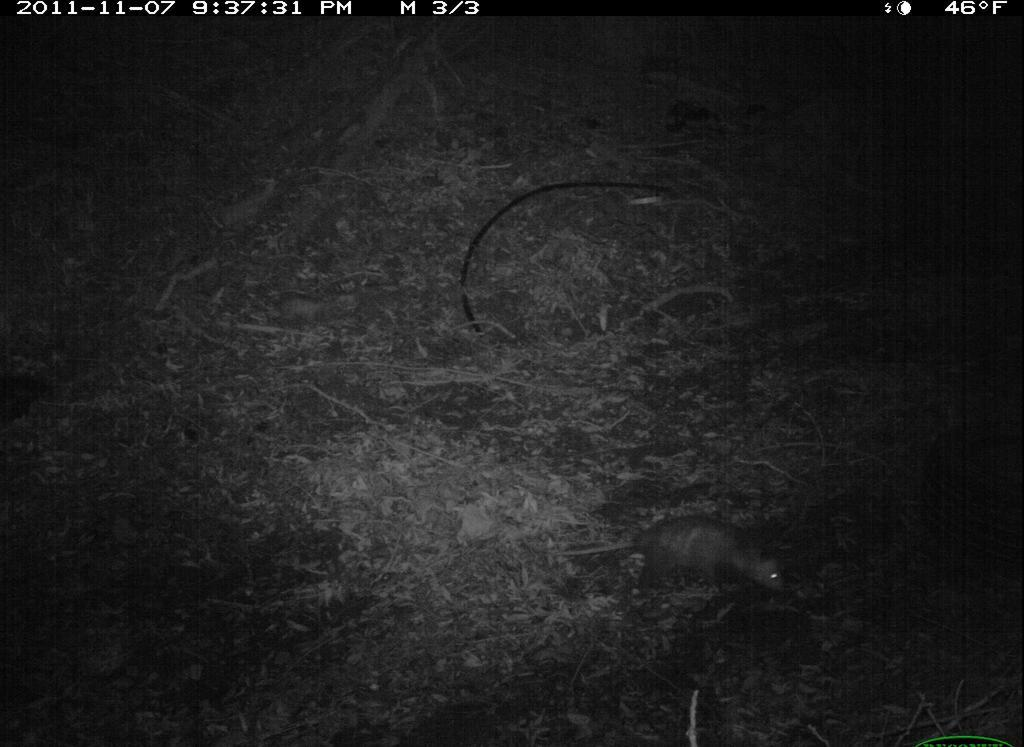opossum: (527, 509, 792, 615)
